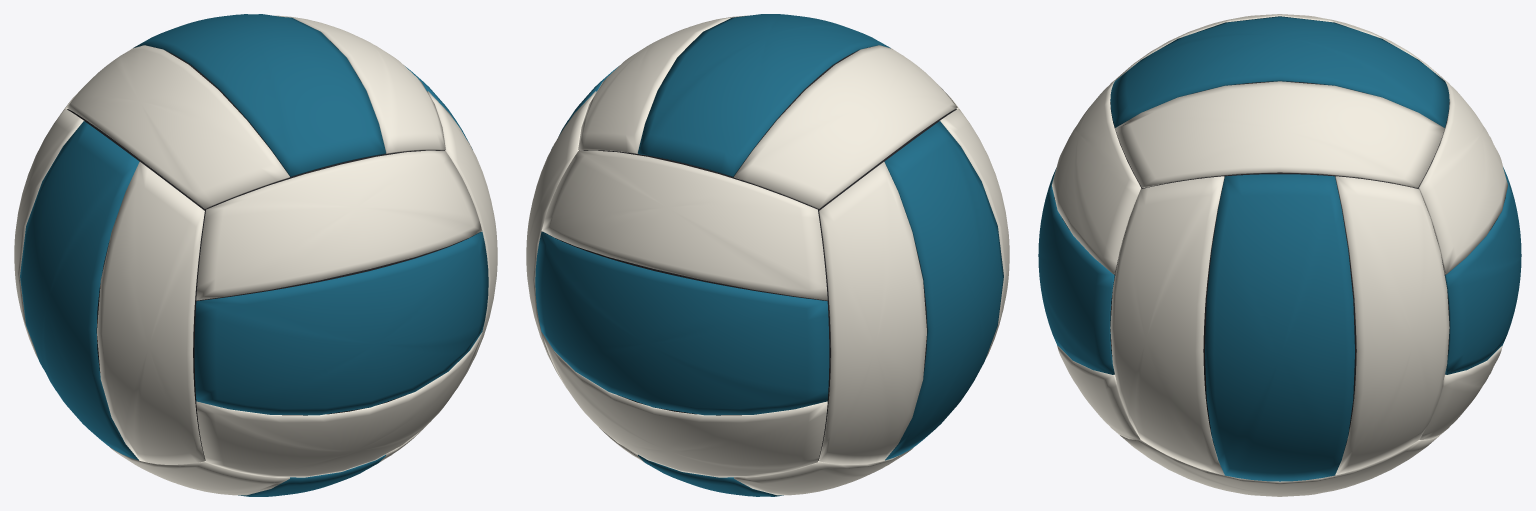
3 renders of one model, left to right at view 1: azimuth 30°, elevation 25°; view 2: azimuth 150°, elevation 25°; view 3: azimuth 270°, elevation 25°, orthographic.
Visible parts, largest first — view 1: MESH_Volleyball; view 2: MESH_Volleyball; view 3: MESH_Volleyball.
Part boxes in pixels (box(x1,y1,x2,y2)): MESH_Volleyball: box(14, 14, 497, 496); MESH_Volleyball: box(526, 14, 1009, 496); MESH_Volleyball: box(1038, 14, 1521, 496).
Bounding box in the file's own units: 0.2101 × 0.2101 × 0.2101.
